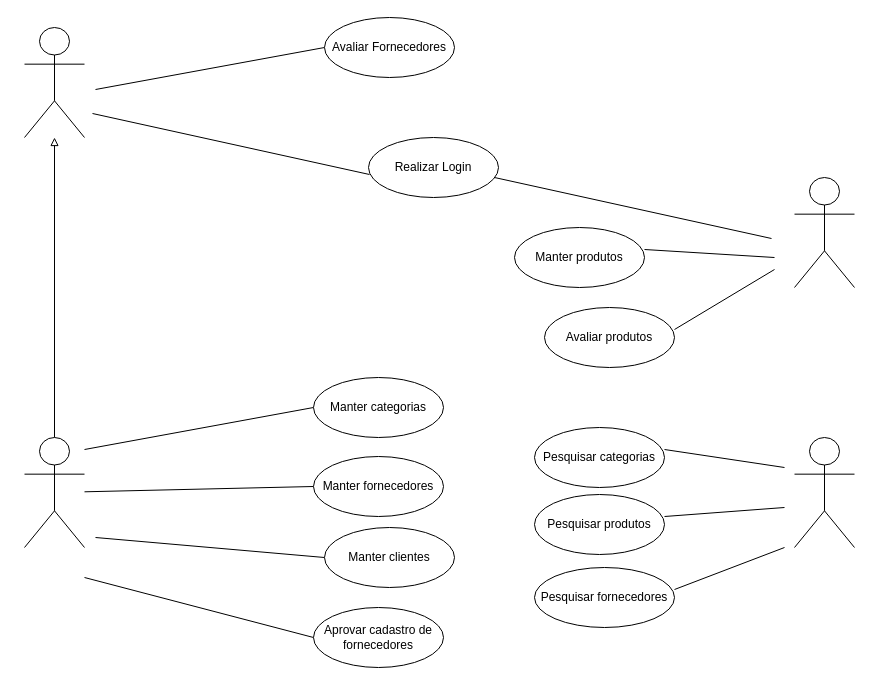
Image size: 872x685. Some labels were removed from this diagram. The shapes that lost their labels are listed below. From the top down, each one's box as (x1, y1, x2, y2) in pixels, then its label:
(24, 26, 84, 138): Cliente
(794, 176, 854, 288): Fornecedor
(24, 436, 84, 548): Administrador
(794, 436, 854, 548): Anônimo
